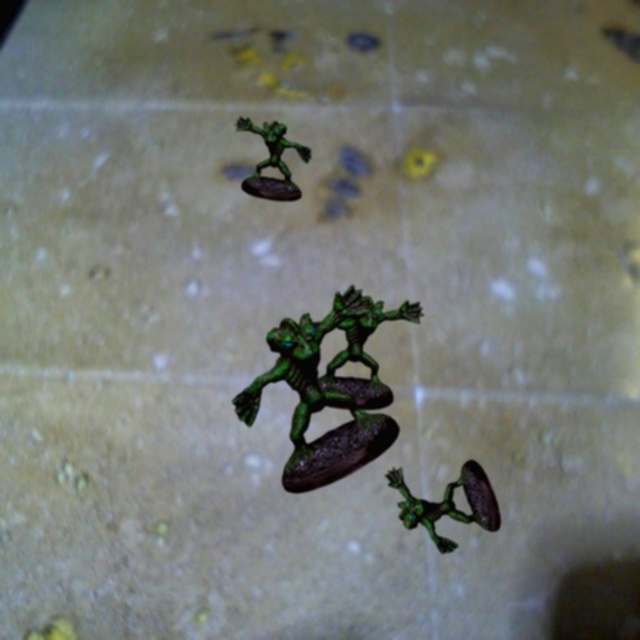pieza_juego: (232, 285, 399, 493), (305, 296, 424, 410), (385, 460, 500, 554), (234, 116, 311, 201)
